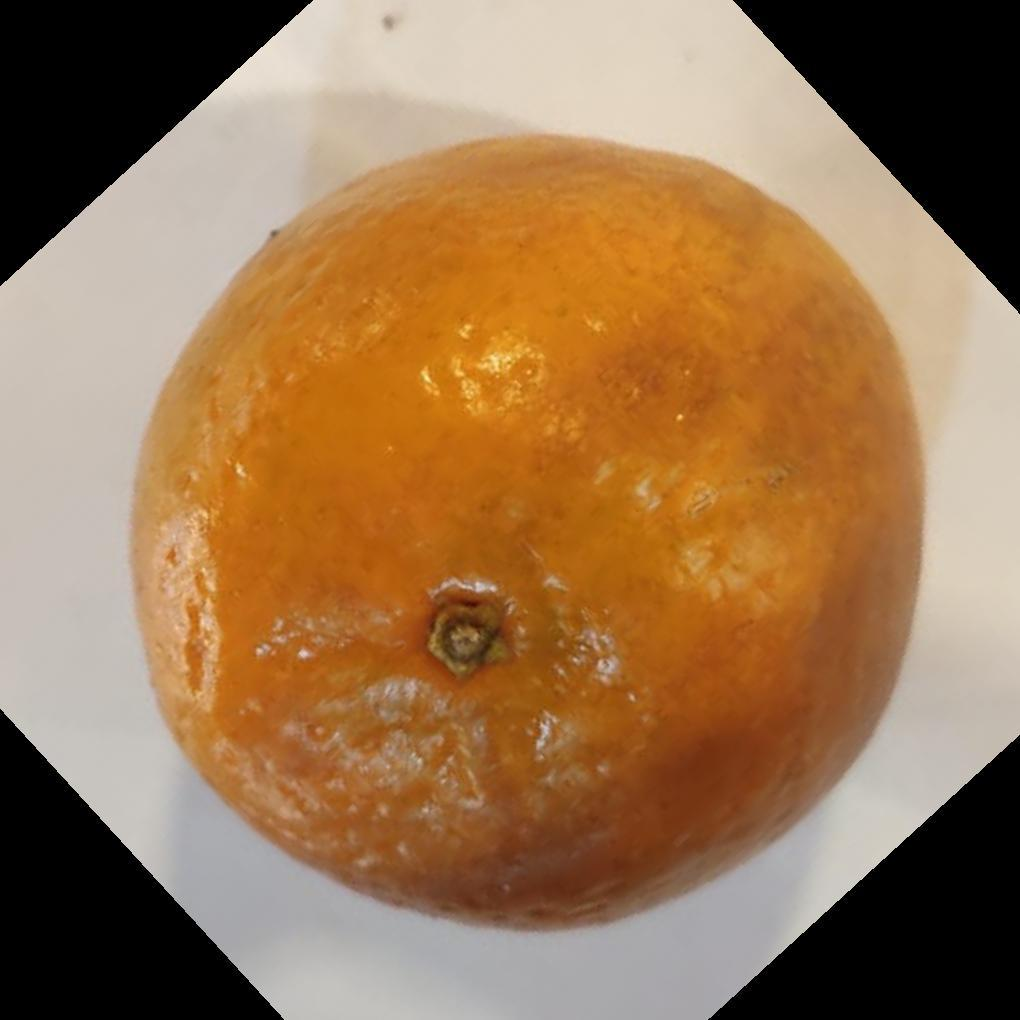FreshOrange: (124, 133, 927, 938)
